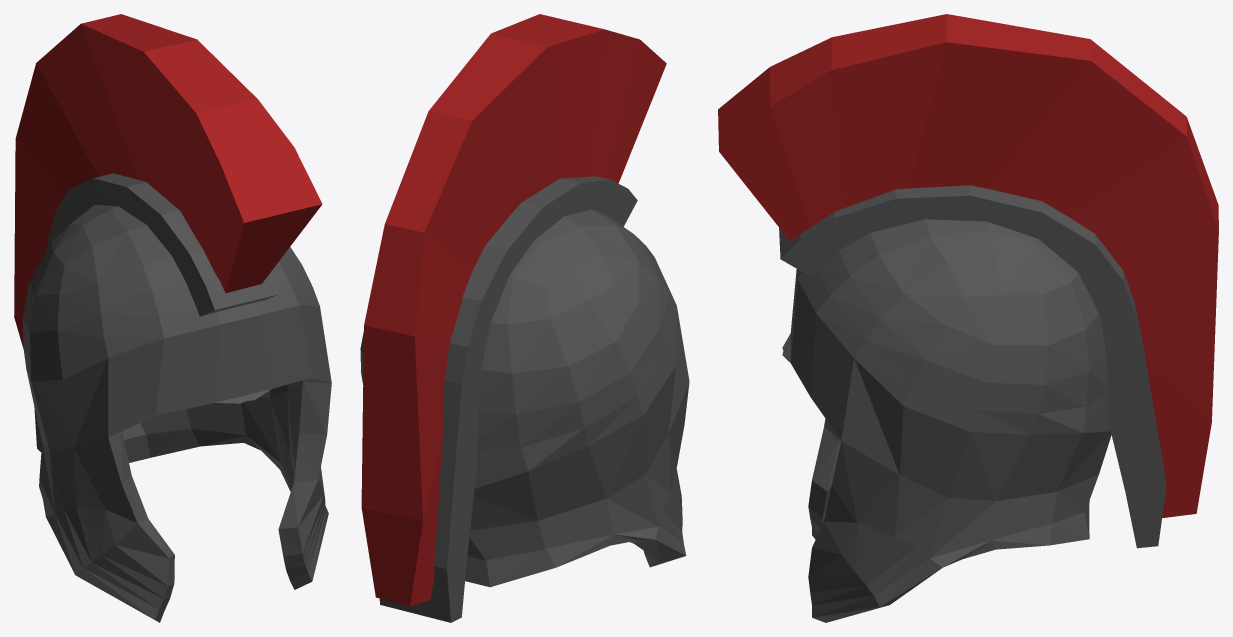
File: SM_helmet_greek_05.fbx
3 renders of one model, left to right at view 1: azimuth 30°, elevation 25°; view 2: azimuth 150°, elevation 25°; view 3: azimuth 270°, elevation 25°, orthographic. The views are drawn at different scales.
Parts seen in each view (by area): view 1: Object32305; view 2: Object32305; view 3: Object32305.
Boxes of the visible parts, x1=… form: Object32305: x1=14, y1=14, x2=331, y2=622; Object32305: x1=360, y1=14, x2=689, y2=622; Object32305: x1=718, y1=14, x2=1218, y2=622.
Bounding box in the file's own units: 10.12 × 19.48 × 15.81.
